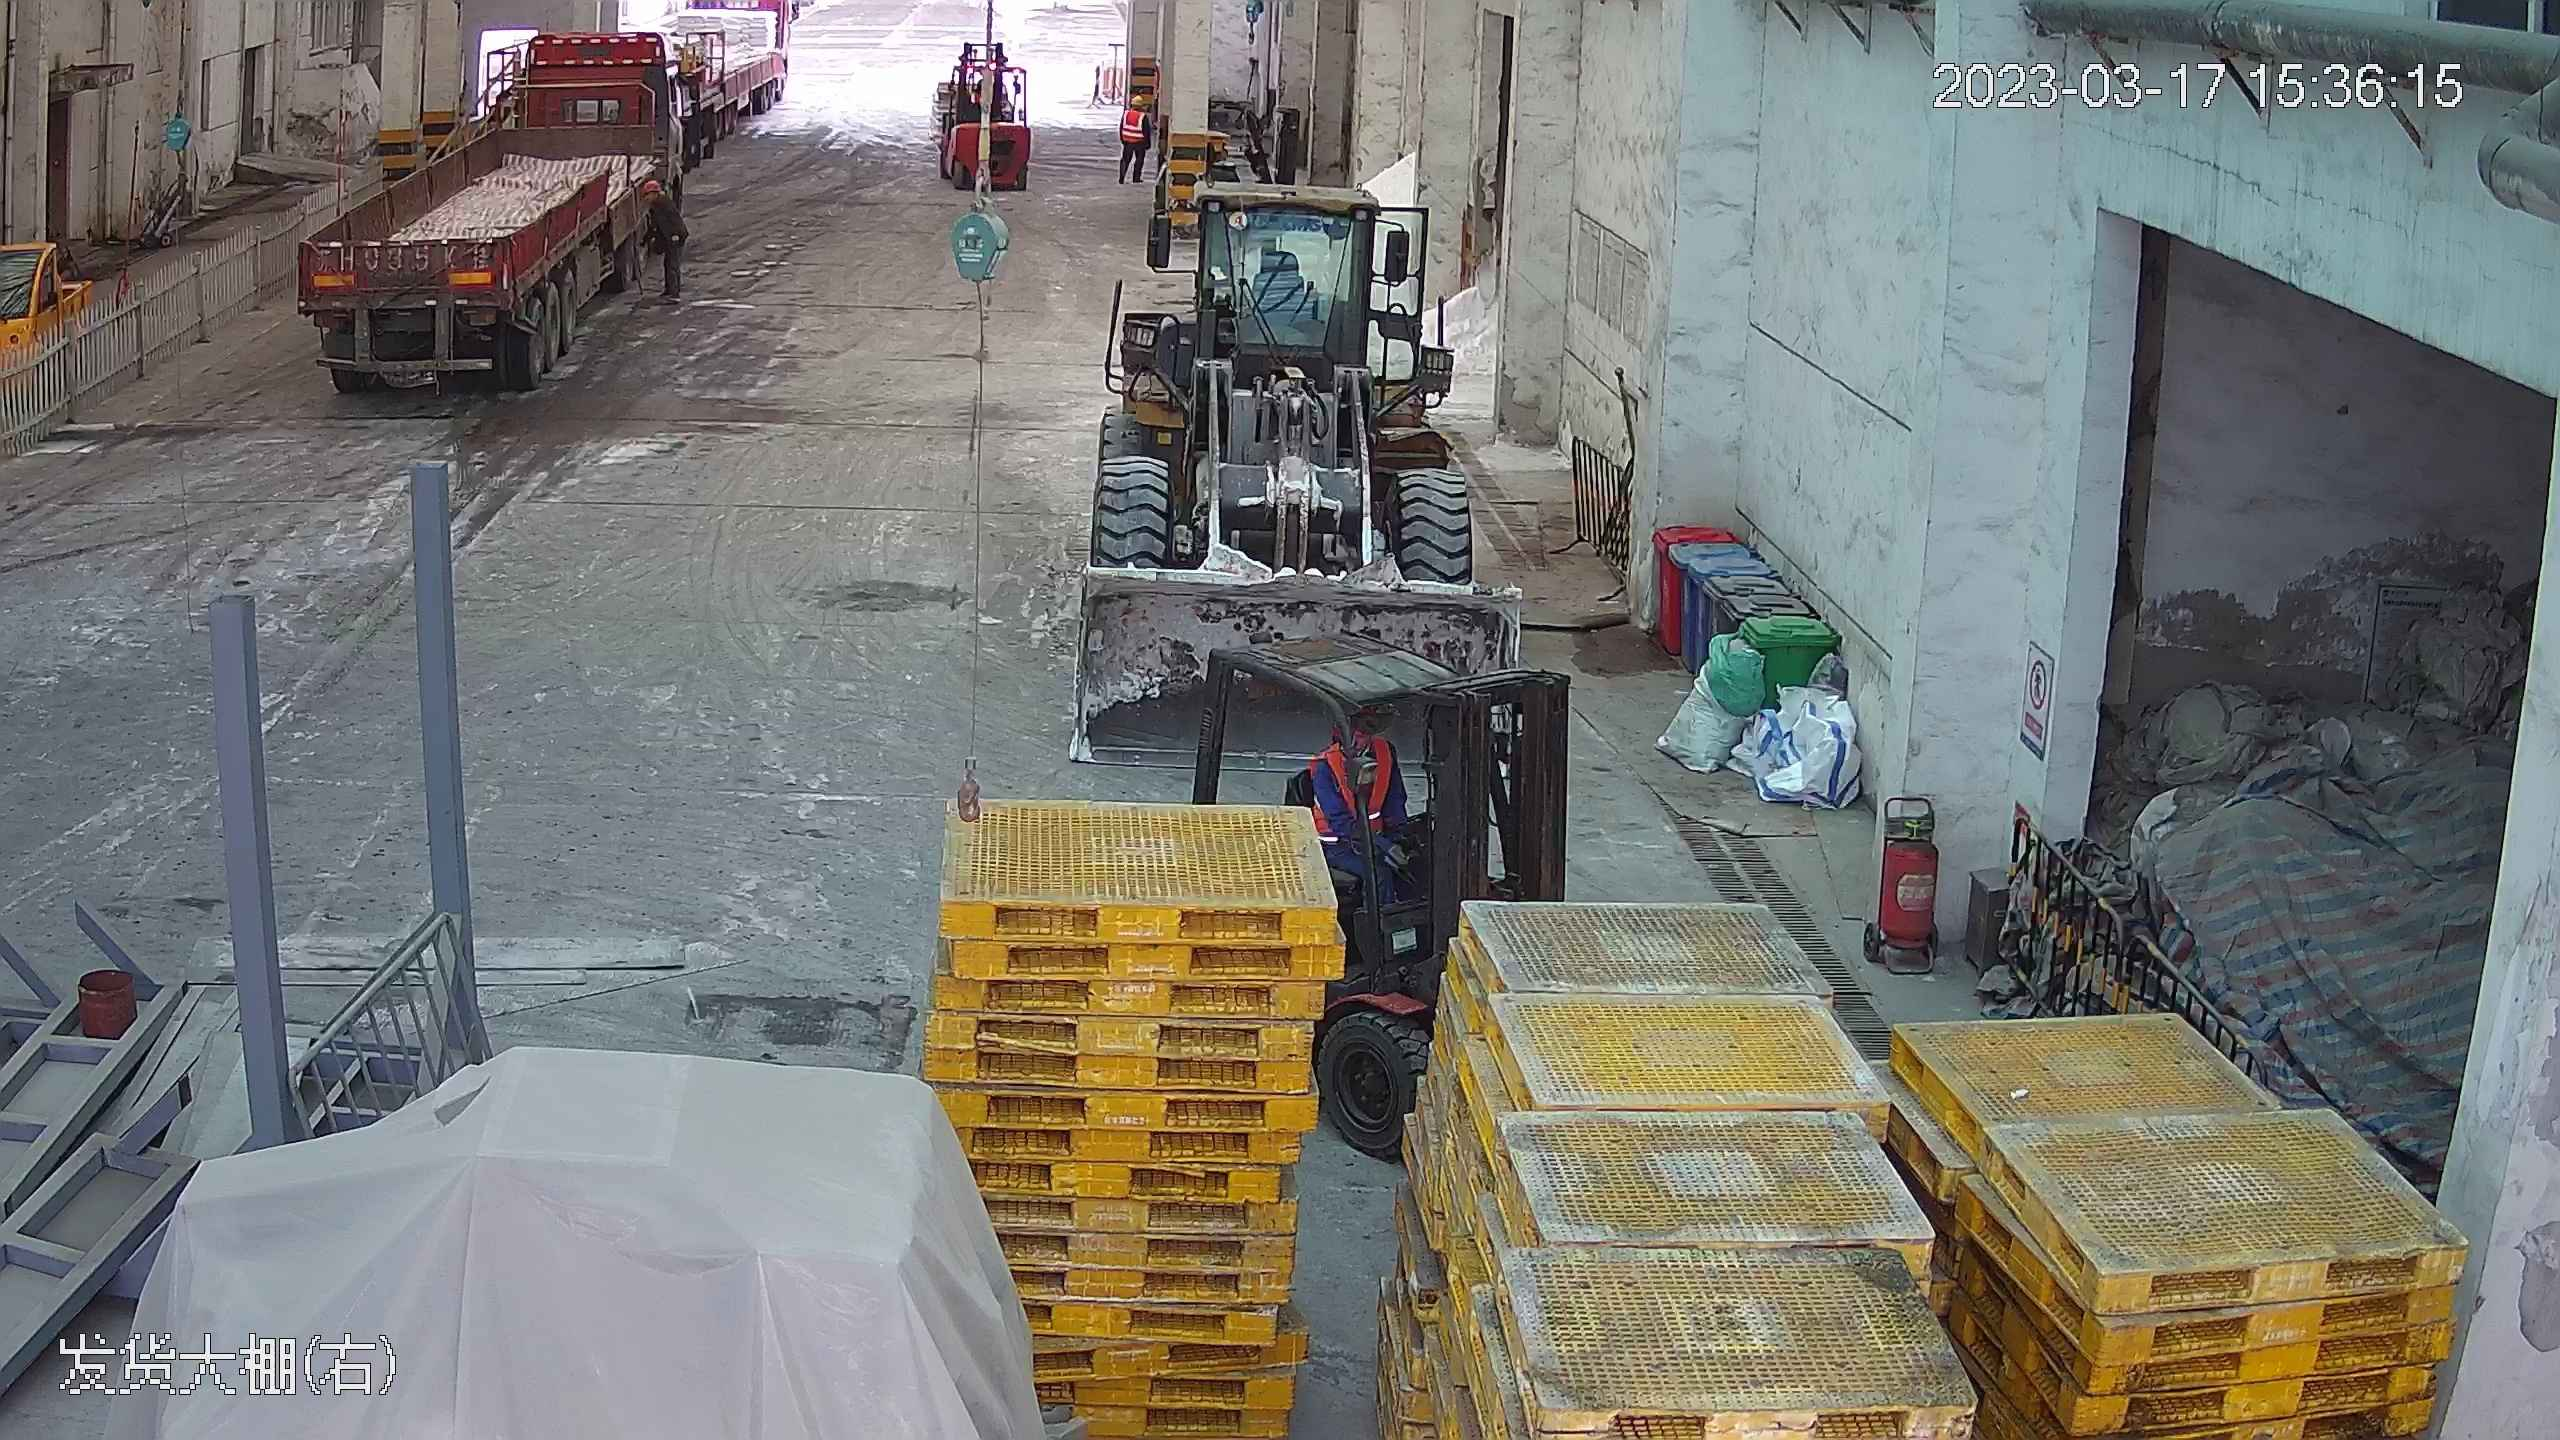head: (630, 169, 668, 218), (1122, 90, 1148, 126)
helmet: (1128, 95, 1145, 107)
people: (647, 183, 689, 308), (1115, 90, 1151, 185)
truck: (282, 8, 702, 400)
